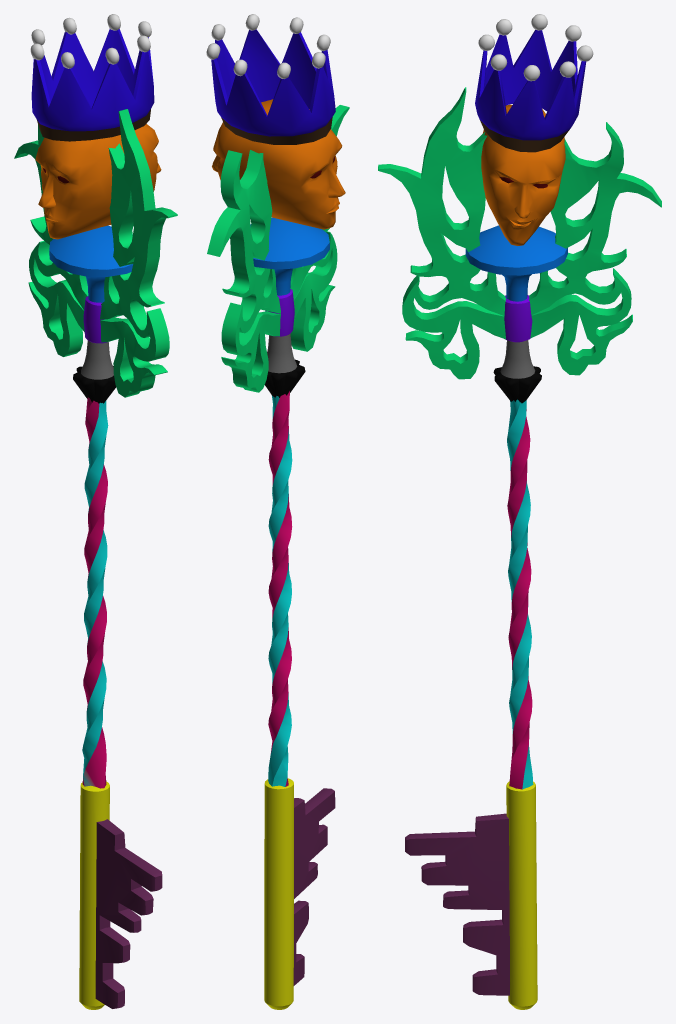
File: Key.fbx
The picture shows the model from 3 angles, left to right: view 1: azimuth 30°, elevation 25°; view 2: azimuth 150°, elevation 25°; view 3: azimuth 270°, elevation 25°; orthographic projection.
Visible parts, largest first — view 1: kingkey; view 2: kingkey; view 3: kingkey.
Boxes of the visible parts, x1,y1,x2,y2 form: kingkey: (14, 14, 177, 1009); kingkey: (206, 14, 349, 1009); kingkey: (378, 14, 661, 1009).
Bounding box in the file's own units: 29.02 × 213 × 56.42.
